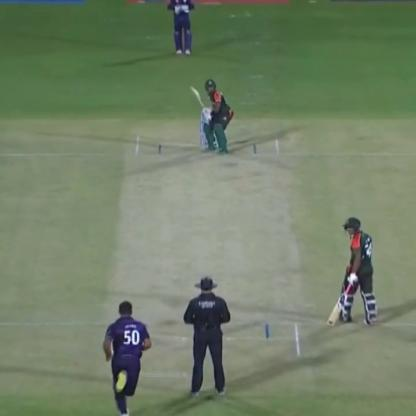pitch: (127, 138, 312, 362)
